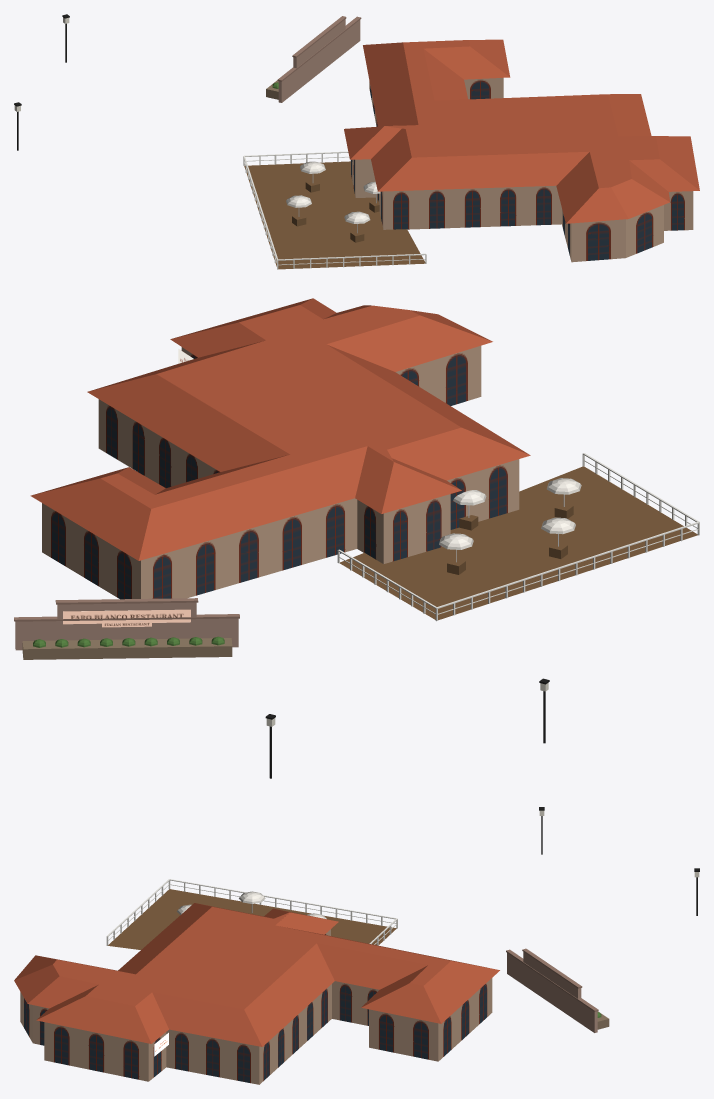
Rendered from farob.glb.
3 views of the same model, one above another, from view 1: azimuth 30°, elevation 25°; view 2: azimuth 150°, elevation 25°; view 3: azimuth 270°, elevation 25° (orthographic). The views are drawn at different scales.
Parts seen in each view (by area): view 1: farob_lod0; view 2: farob_lod0; view 3: farob_lod0.
Boxes of the visible parts, <box> form: farob_lod0: <box>14,14,699,269</box>; farob_lod0: <box>14,298,699,778</box>; farob_lod0: <box>14,807,699,1084</box>.
Size of what is drawn, in the model's own units: 53.76 by 6.2 by 66.3.
Materials: 14 (2 with a texture image).
